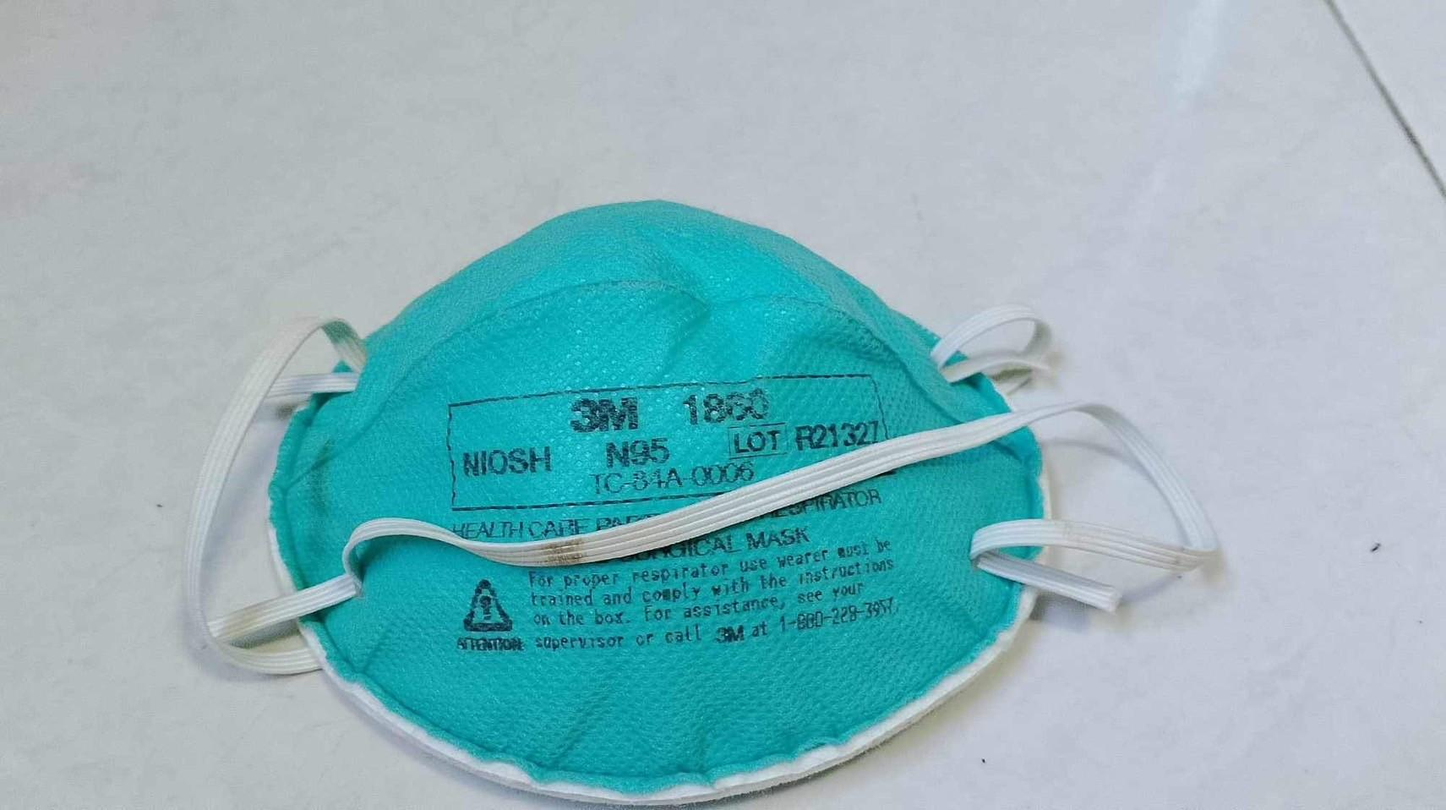General: (180, 197, 1220, 804)
Sharps: (205, 390, 1209, 663)
